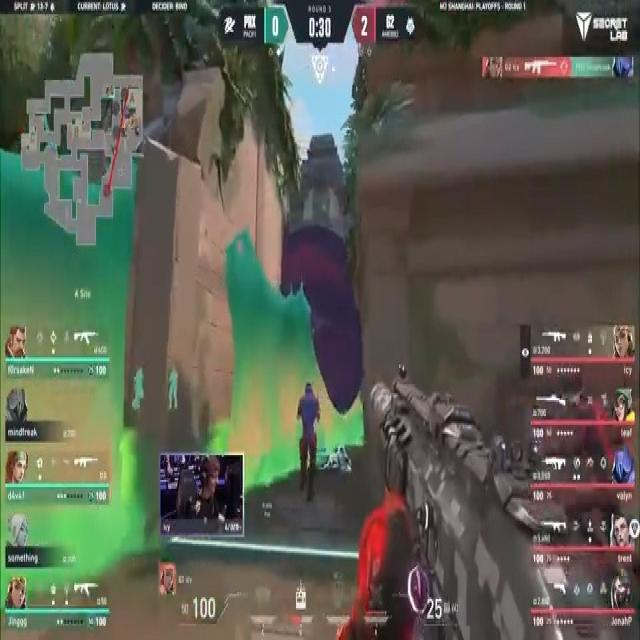ally behind wall: (168, 366, 179, 411)
enemy: (296, 378, 320, 505)
